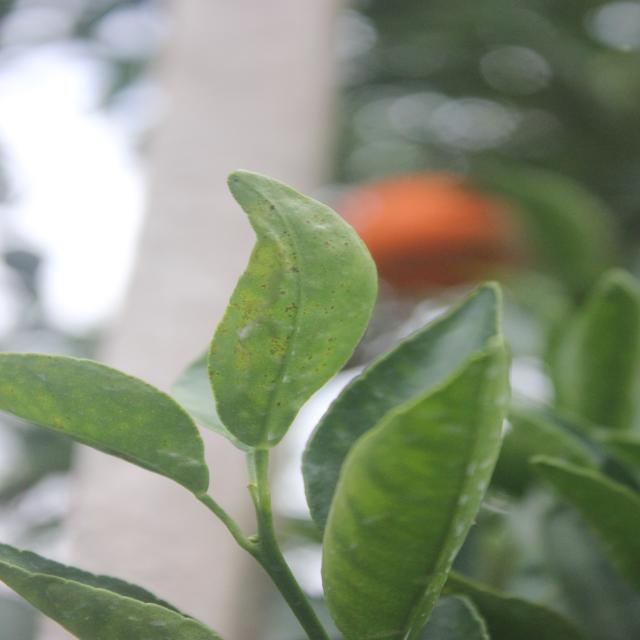canker: (224, 180, 361, 433)
